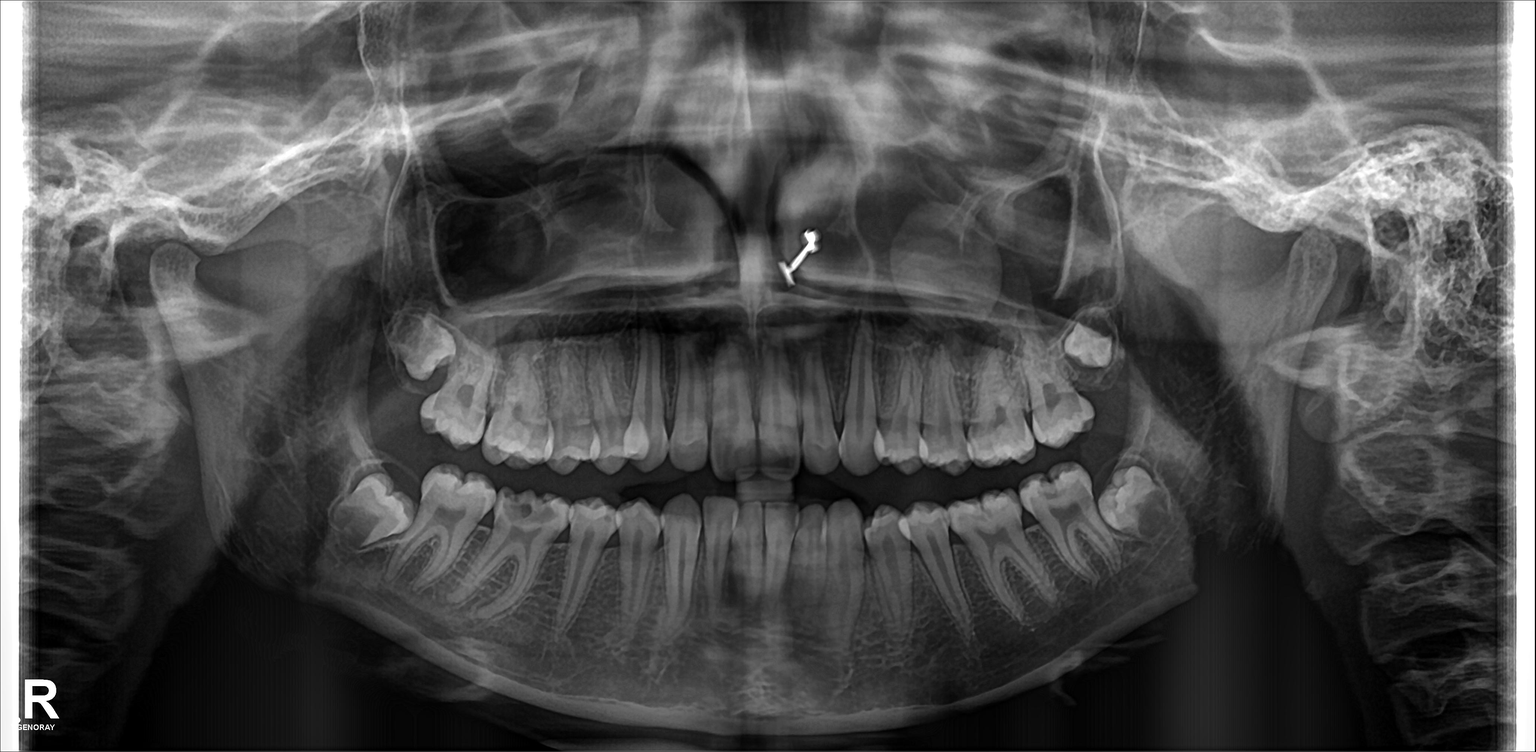Dental Caries: (494, 493, 560, 536)
Impacted Third Molar: (328, 486, 416, 554), (389, 313, 465, 375), (1112, 478, 1170, 536), (1065, 322, 1114, 371)
